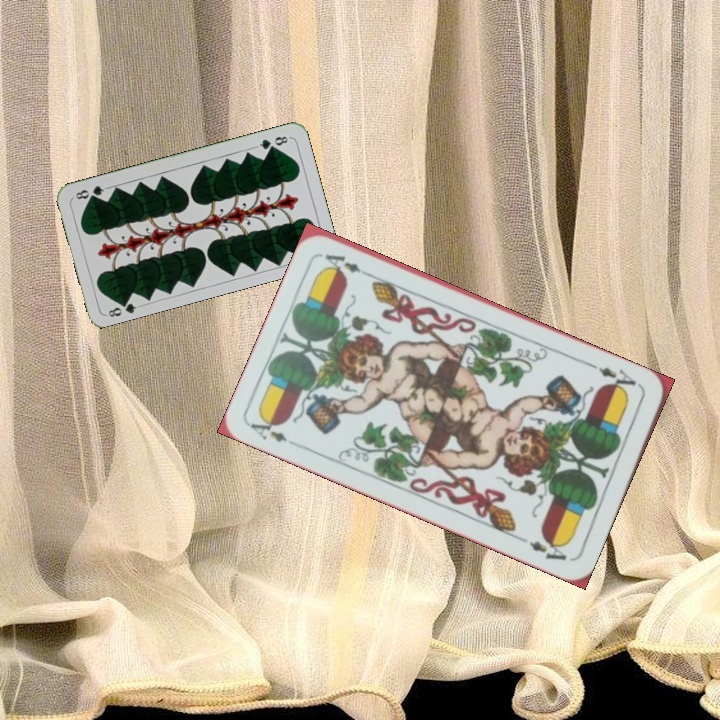EA: (246, 412, 303, 450), (587, 360, 644, 396)
G8: (103, 295, 143, 320), (252, 132, 292, 152)
